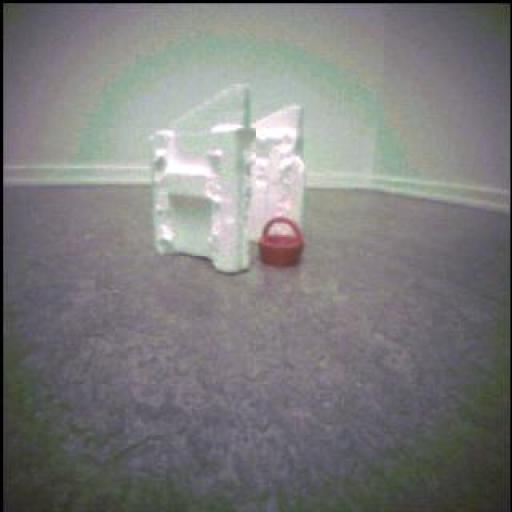Bucket: (260, 219, 305, 268)
